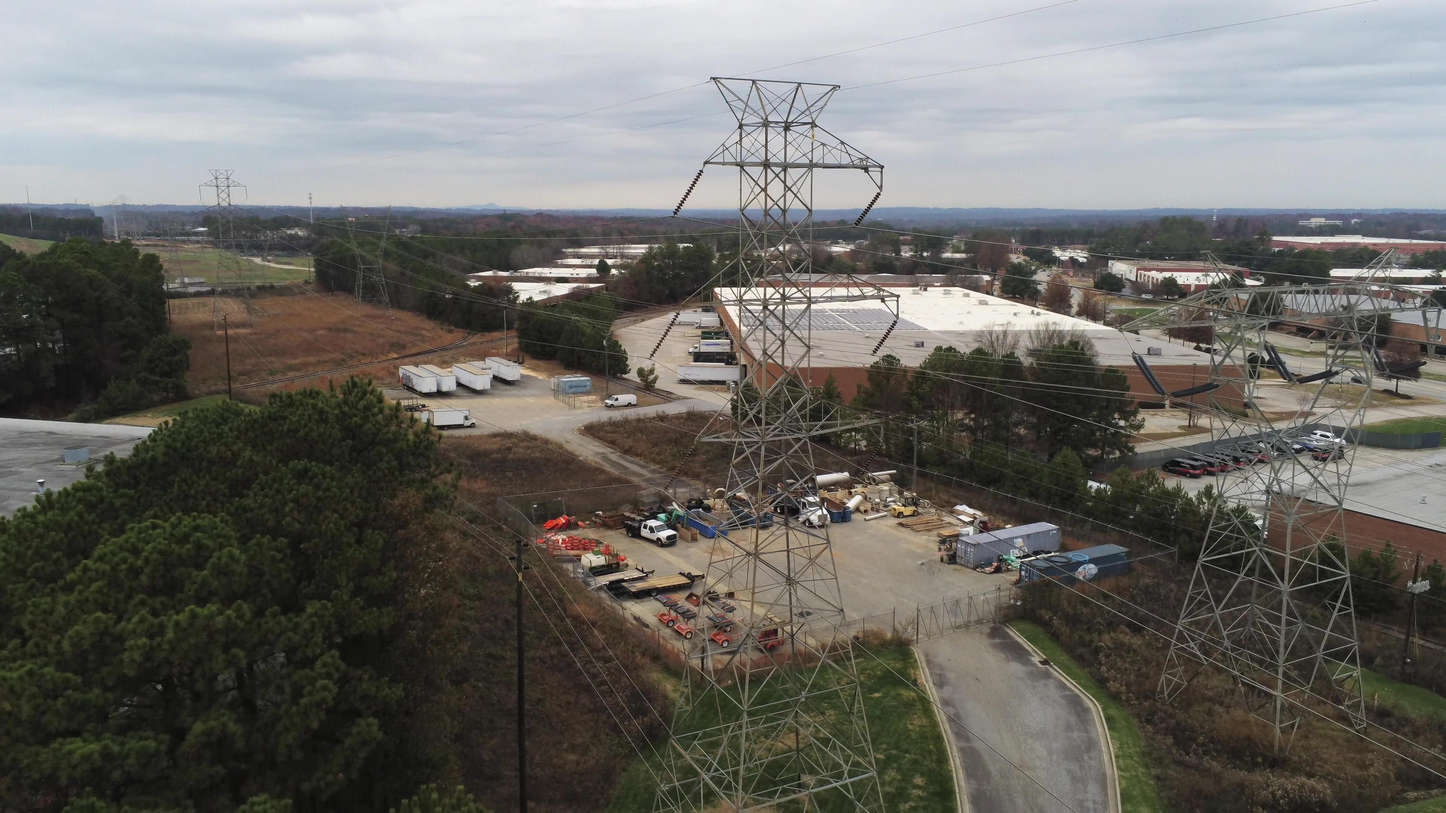power_tower: (650, 77, 900, 813), (1118, 247, 1443, 758), (194, 169, 255, 322), (340, 205, 392, 319), (1130, 351, 1167, 398), (671, 168, 705, 219), (649, 311, 682, 361), (1261, 343, 1296, 384), (851, 191, 882, 230), (869, 319, 899, 356), (1295, 367, 1344, 385), (1169, 383, 1220, 400), (1389, 360, 1430, 376), (1369, 339, 1387, 373), (113, 190, 129, 213)
